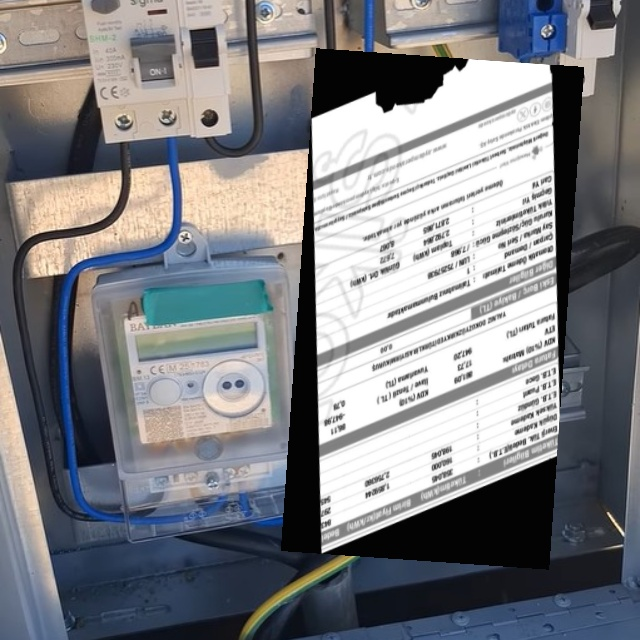electricity-bill: (280, 47, 584, 569)
